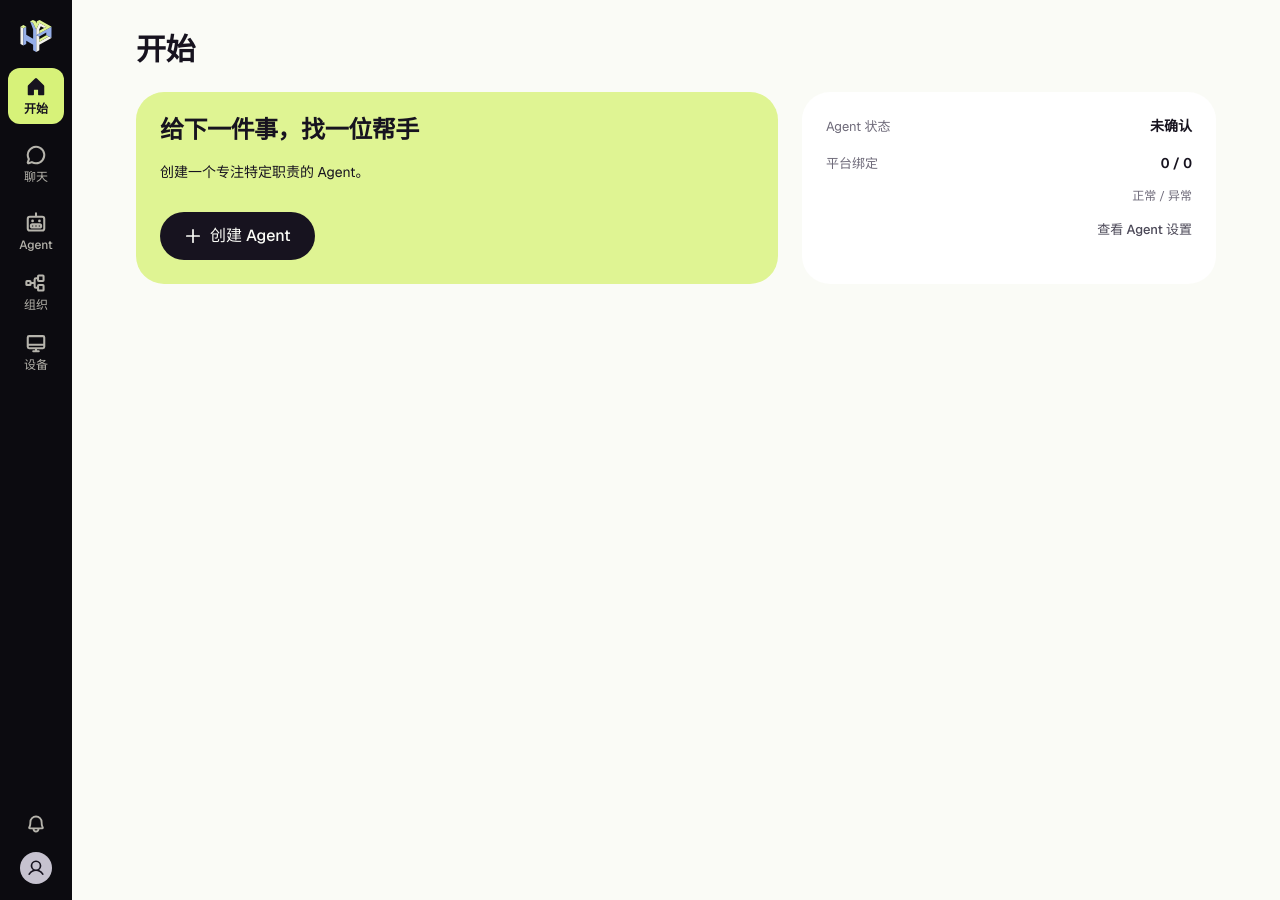
agent.list › present: the entry and the list render
This screenshot has width=1280, height=900.
Click the button "Agent".
click(36, 232)  # box [8,204,64,260]
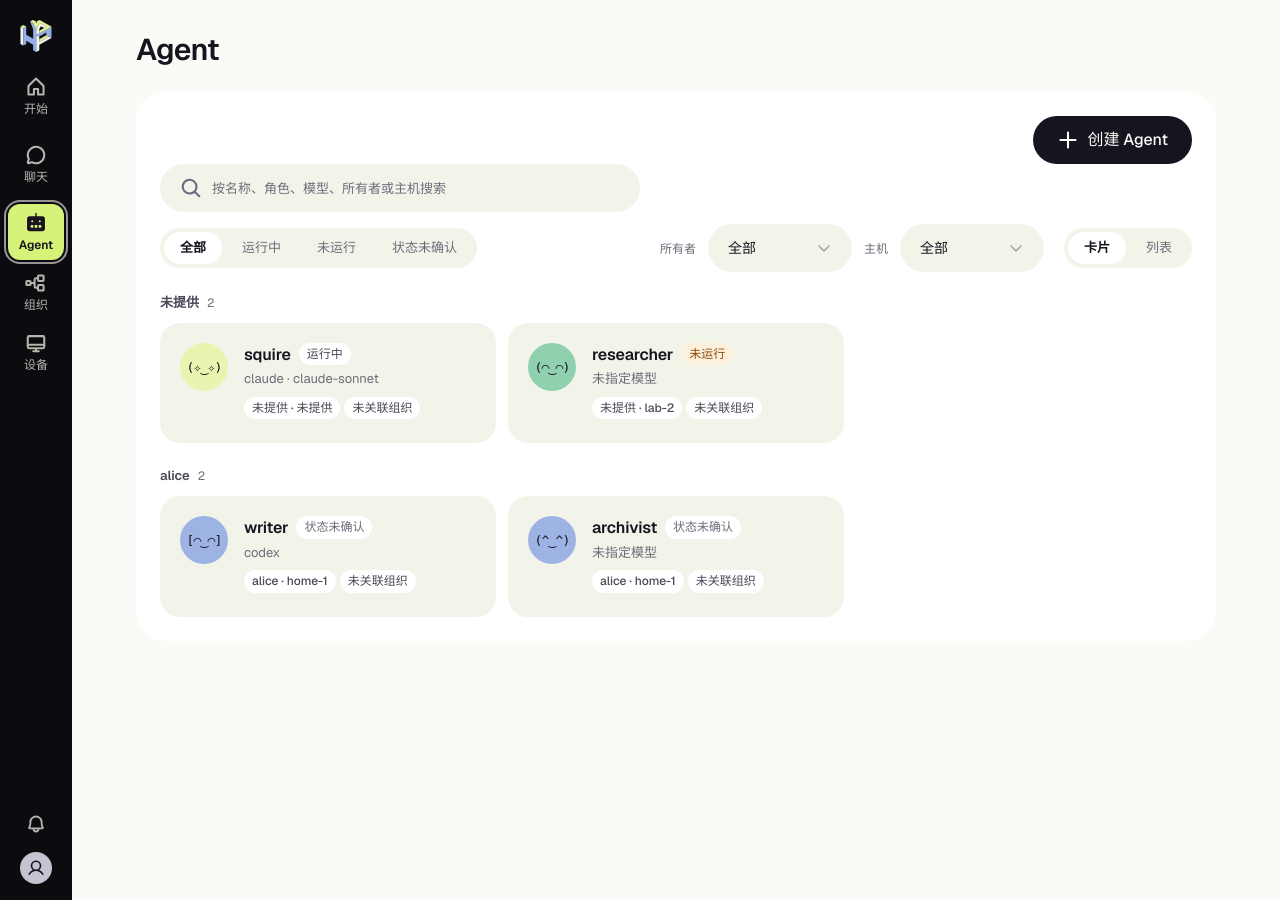
Result: the button with test id "contact-researcher" is shown at [508,323,844,443]
